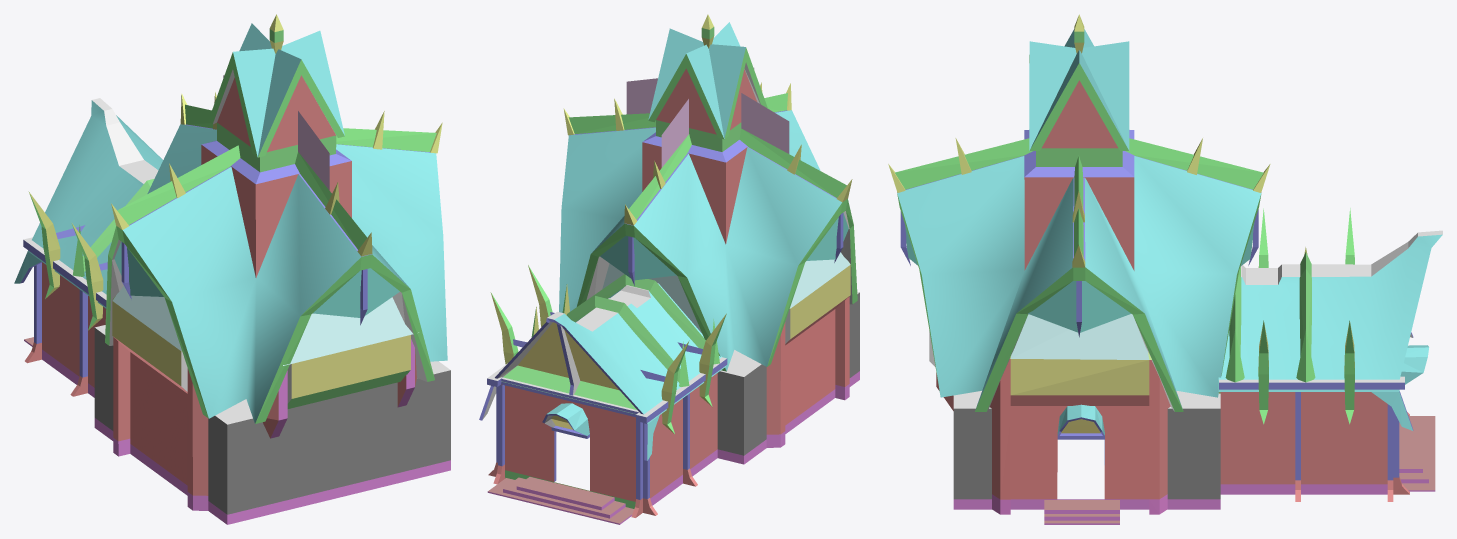
Rendered from O_DE_Azit01.gltf.
3 views of the same model, side by side, from view 1: azimuth 30°, elevation 25°; view 2: azimuth 150°, elevation 25°; view 3: azimuth 270°, elevation 25° (orthographic). The views are drawn at different scales.
Visible parts, largest first — view 1: O_DE_Azit01; view 2: O_DE_Azit01; view 3: O_DE_Azit01.
Boxes of the visible parts, box(x1,y1,x2,y2) form: O_DE_Azit01: box(14, 14, 450, 524); O_DE_Azit01: box(479, 14, 859, 524); O_DE_Azit01: box(888, 14, 1442, 524).
Bounding box in the file's own units: 7.01 × 8.85 × 10.1.
